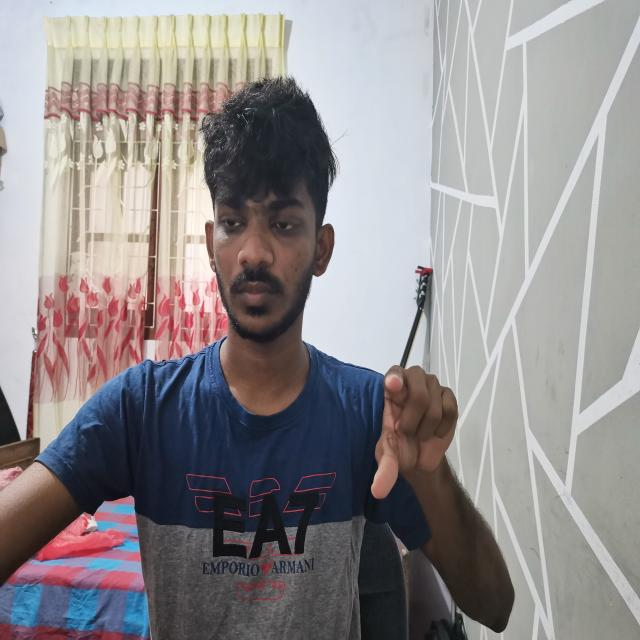No: (370, 358, 462, 508)
